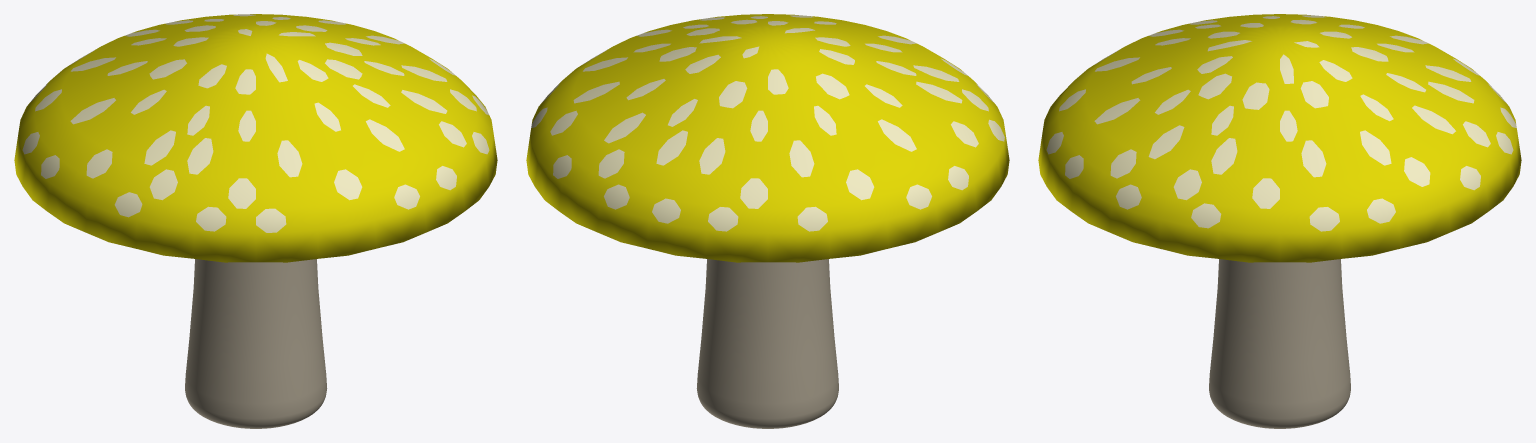
File: Mushroom.fbx
The picture shows the model from 3 angles, left to right: view 1: azimuth 30°, elevation 25°; view 2: azimuth 150°, elevation 25°; view 3: azimuth 270°, elevation 25°; orthographic projection.
Parts seen in each view (by area): view 1: Poly; view 2: Poly; view 3: Poly.
Part boxes in pixels (x1,y1,x2,y2): Poly: (14,14,497,428); Poly: (526,14,1009,428); Poly: (1038,14,1521,428).
Size of the model in its own units: 41.54 by 34.52 by 41.54.
